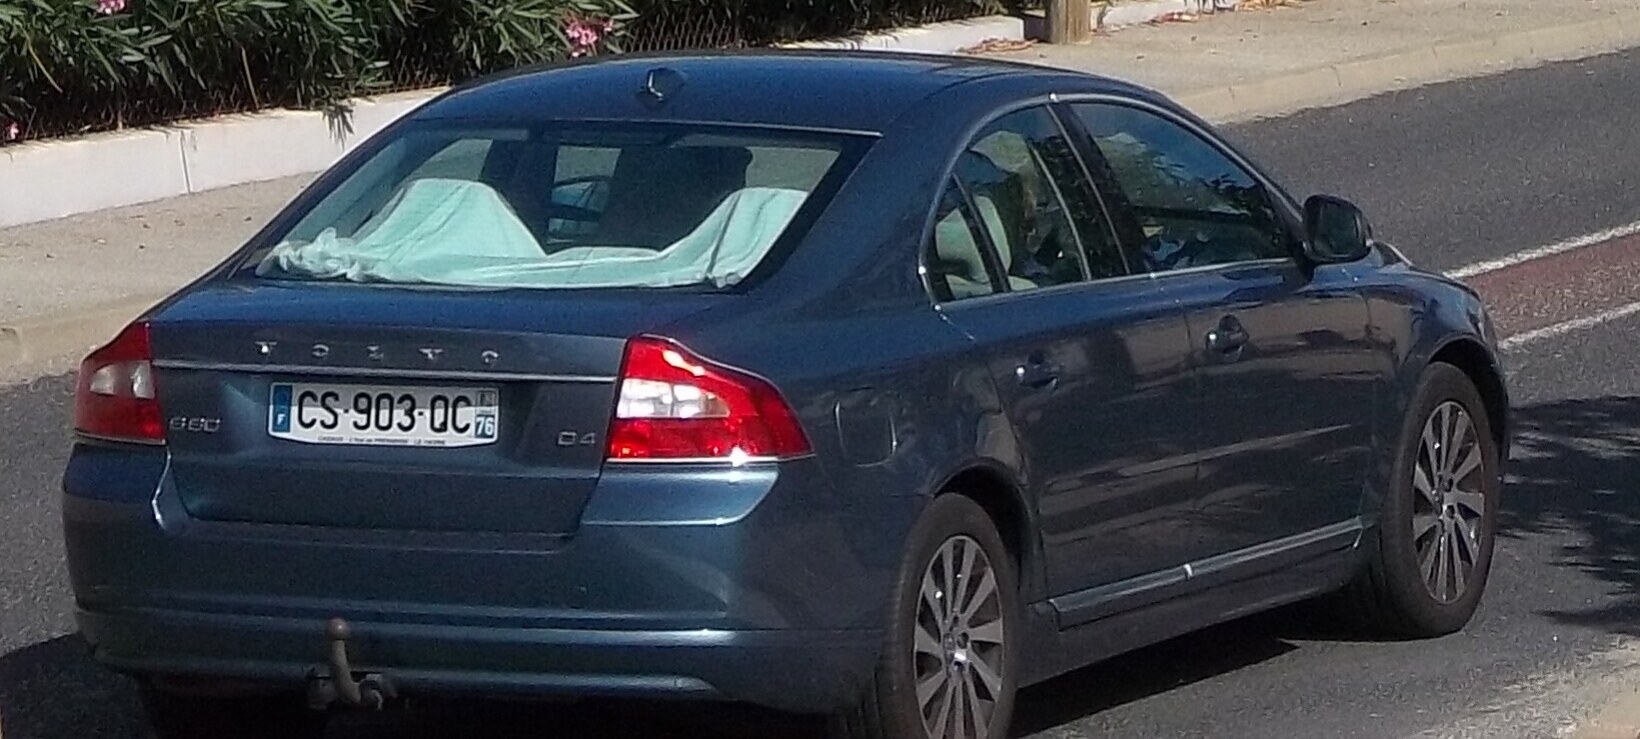licence plate: (265, 374, 502, 453)
